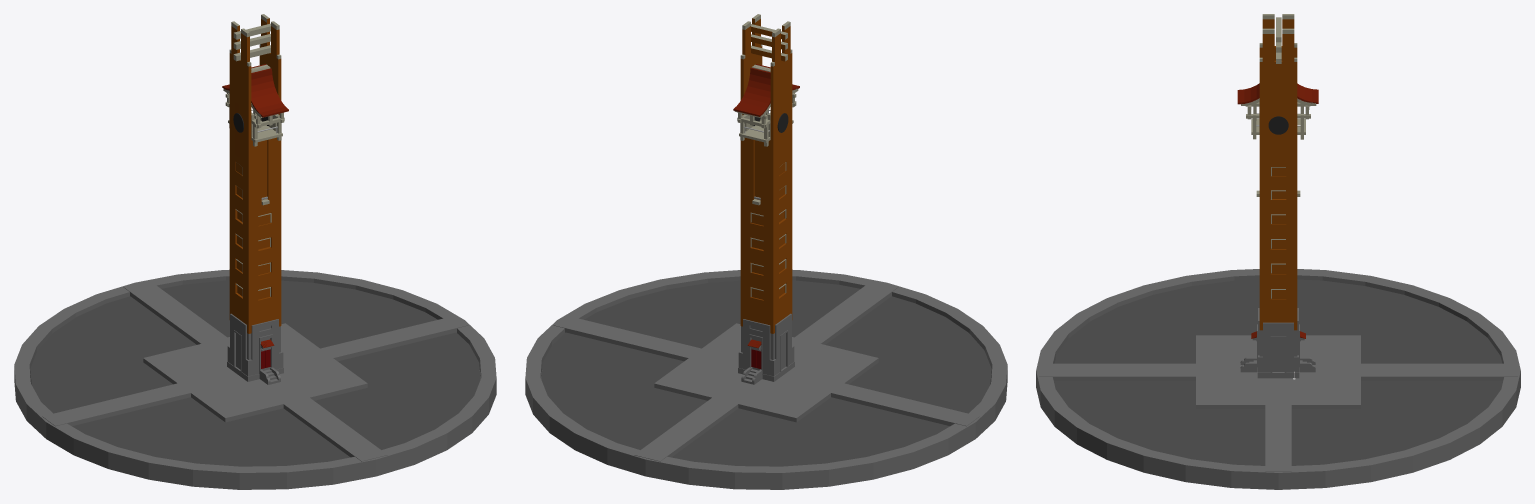
The picture shows the model from 3 angles, left to right: view 1: azimuth 30°, elevation 25°; view 2: azimuth 150°, elevation 25°; view 3: azimuth 270°, elevation 25°; orthographic projection.
Parts seen in each view (by area): view 1: 柱体.009, 立方体.008, 柱体.010, Cube.010, Cube.002, 柱体.023, Cube.005; view 2: 柱体.009, 立方体.008, 柱体.010, Cube.010, Cube.002, 柱体.024; view 3: 柱体.009, 柱体.010, 立方体.008, Cube.010, Cube.002.
Boxes of the visible parts, left/top/right/bottom form: 柱体.009: left=30, top=280, right=480, bottom=466; 立方体.008: left=42, top=280, right=468, bottom=461; 柱体.010: left=14, top=269, right=496, bottom=489; Cube.010: left=229, top=18, right=281, bottom=333; Cube.002: left=227, top=313, right=283, bottom=381; 柱体.023: left=251, top=68, right=288, bottom=117; Cube.005: left=233, top=23, right=270, bottom=61; 柱体.009: left=541, top=280, right=991, bottom=466; 立方体.008: left=553, top=280, right=979, bottom=461; 柱体.010: left=525, top=269, right=1007, bottom=489; Cube.010: left=740, top=18, right=792, bottom=333; Cube.002: left=738, top=313, right=794, bottom=381; 柱体.024: left=733, top=67, right=770, bottom=116; 柱体.009: left=1054, top=279, right=1502, bottom=465; 柱体.010: left=1036, top=269, right=1520, bottom=489; 立方体.008: left=1039, top=335, right=1517, bottom=471; Cube.010: left=1259, top=19, right=1297, bottom=330; Cube.002: left=1257, top=308, right=1299, bottom=378.
Bounding box in the file's own units: 103 × 85.35 × 103.
